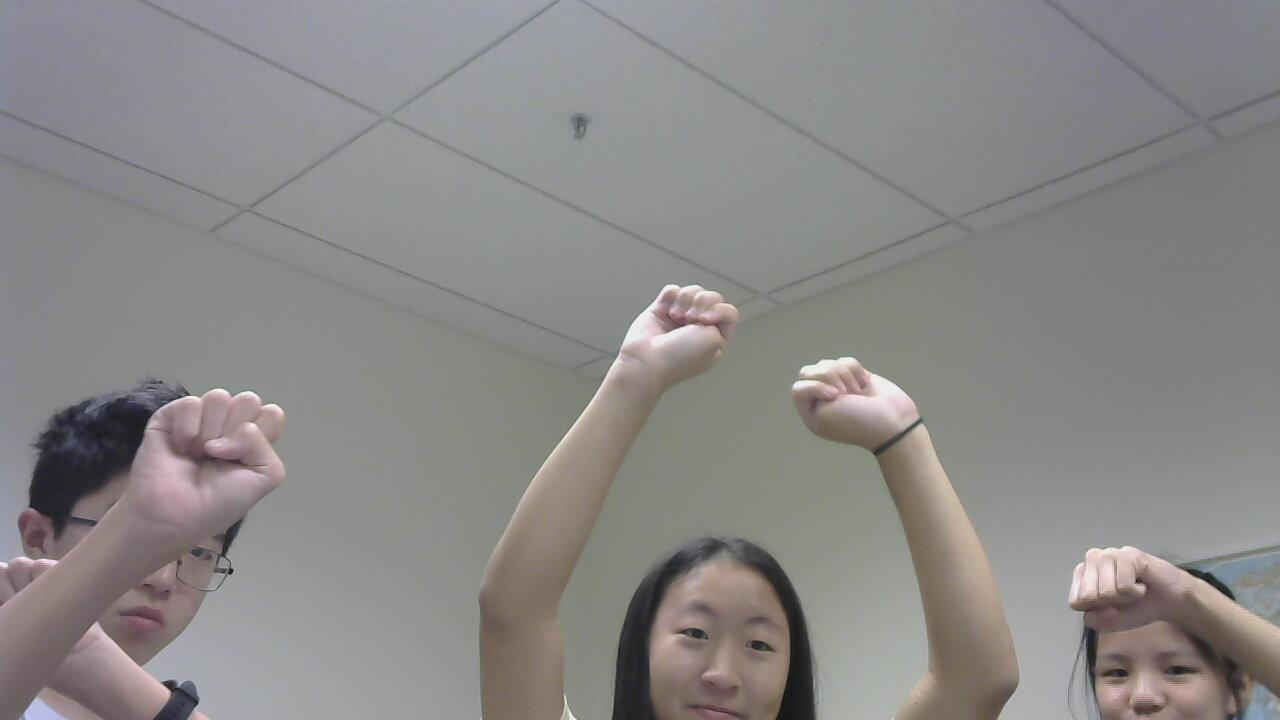fist: (113, 377, 339, 576), (601, 252, 735, 418), (791, 347, 939, 475), (1063, 527, 1194, 623)
